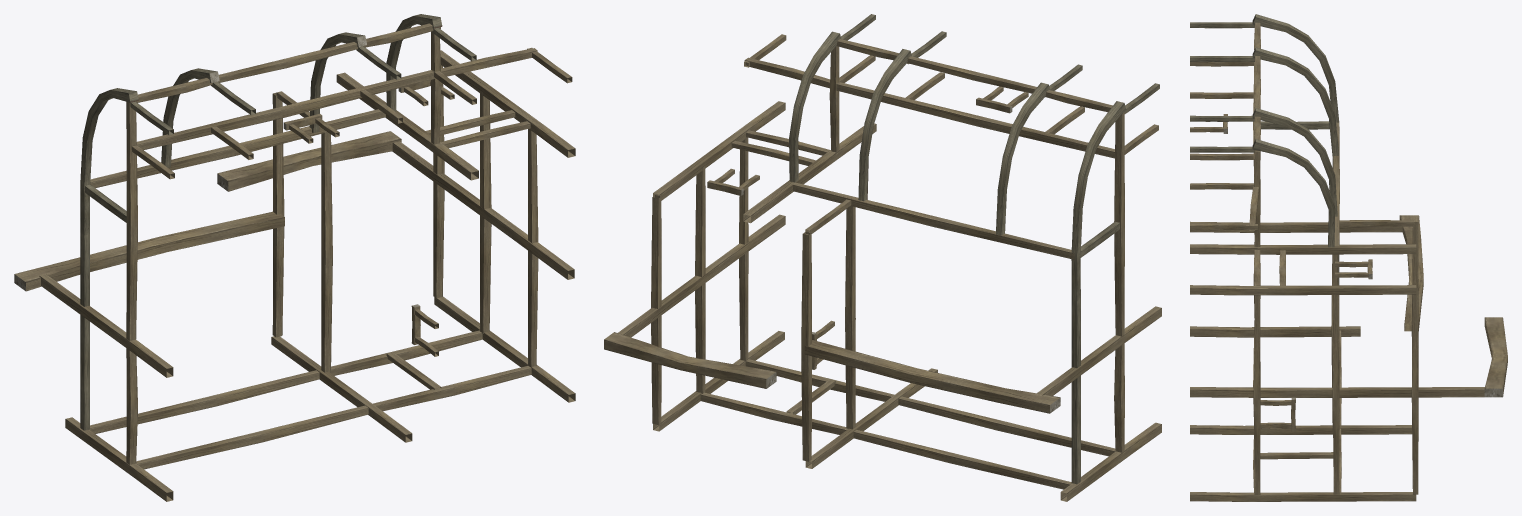
File: Pirate_Bar_Structure_C.fbx
3 views of the same model, side by side, from view 1: azimuth 30°, elevation 25°; view 2: azimuth 150°, elevation 25°; view 3: azimuth 270°, elevation 25° (orthographic). The views are drawn at different scales.
Parts seen in each view (by area): view 1: Pirate_Bar_Structure_C; view 2: Pirate_Bar_Structure_C; view 3: Pirate_Bar_Structure_C.
Boxes of the visible parts, x1,y1,x2,y2 form: Pirate_Bar_Structure_C: [14, 14, 575, 501]; Pirate_Bar_Structure_C: [604, 14, 1161, 501]; Pirate_Bar_Structure_C: [1190, 14, 1507, 501].
Bounding box in the file's own units: 24.5 × 20.9 × 18.77.
